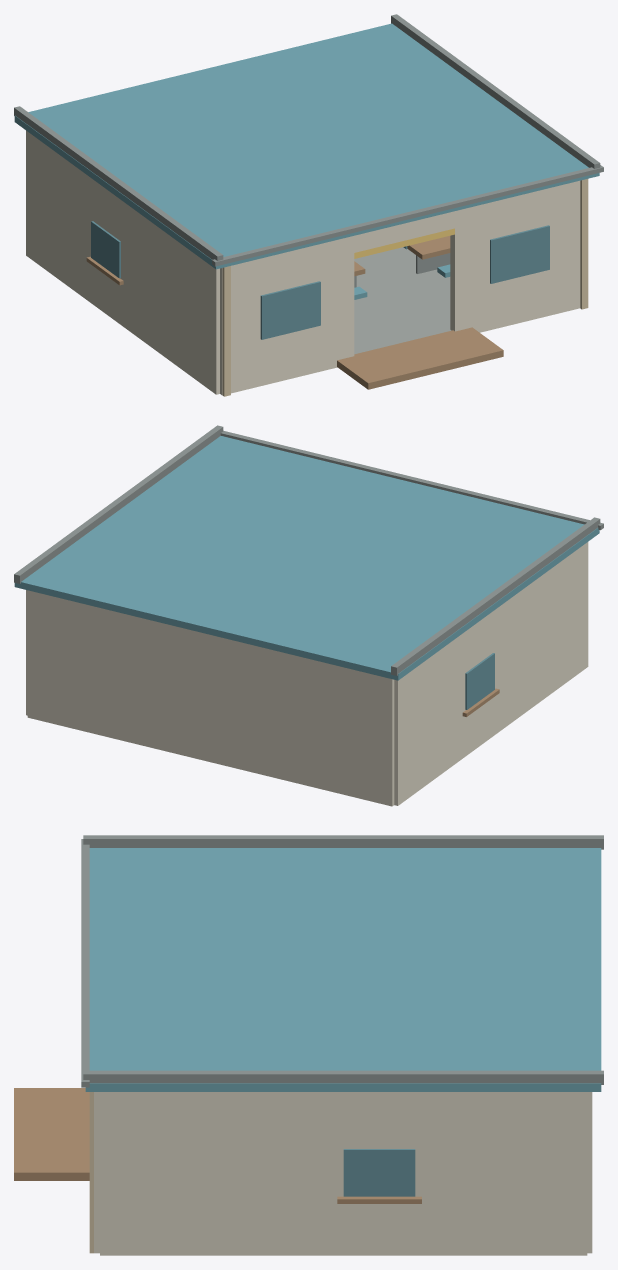
Rendered from renovated_school.glb.
The picture shows the model from 3 angles, top to bottom: view 1: azimuth 30°, elevation 25°; view 2: azimuth 150°, elevation 25°; view 3: azimuth 270°, elevation 25°; orthographic projection. The views are drawn at different scales.
Parts seen in each view (by area): view 1: roof deck.003, WALL_side masonry.006, WALL_entrance pier.007, WALL_entrance pier.006, FLOOR_repaired slab.003, porch landing.003, front rain gutter.003, roof edge.006, roof edge.007, school front window, school front window.001, WALL_door lintel.003 (+5 smaller); view 2: roof deck.003, WALL_rear masonry.003, WALL_side masonry.006, roof edge.007, roof edge.006, front rain gutter.003, side reused window.006; view 3: roof deck.003, WALL_side masonry.007, roof edge.007, porch landing.003, roof edge.006, side reused window.007, front rain gutter.003, WALL_entrance pier.007, WALL_rear masonry.003, corner plaster trim.007, side window sill.007.
Part boxes in pixels (box(x1,y1,x2,y2)): roof deck.003: box(14, 23, 599, 269); WALL_side masonry.006: box(26, 130, 219, 394); WALL_entrance pier.007: box(450, 180, 580, 332); WALL_entrance pier.006: box(220, 236, 354, 395); FLOOR_repaired slab.003: box(354, 247, 451, 354); porch landing.003: box(337, 327, 503, 389); front rain gutter.003: box(212, 165, 603, 266); roof edge.006: box(14, 106, 223, 260); roof edge.007: box(391, 14, 600, 168); school front window: box(260, 281, 320, 339); school front window.001: box(490, 225, 549, 283); WALL_door lintel.003: box(354, 211, 454, 252); roof deck.003: box(14, 436, 599, 680); WALL_rear masonry.003: box(27, 590, 394, 806); WALL_side masonry.006: box(394, 542, 588, 805); roof edge.007: box(14, 425, 223, 583); roof edge.006: box(391, 517, 600, 675); front rain gutter.003: box(220, 430, 603, 530); side reused window.006: box(465, 653, 494, 709); roof deck.003: box(85, 848, 601, 1091); WALL_side masonry.007: box(100, 1092, 587, 1255); roof edge.007: box(83, 1070, 603, 1084); porch landing.003: box(14, 1088, 89, 1180); roof edge.006: box(83, 835, 603, 849); side reused window.007: box(343, 1149, 415, 1196); front rain gutter.003: box(81, 839, 89, 1087); WALL_entrance pier.007: box(94, 1092, 99, 1253); WALL_rear masonry.003: box(587, 1092, 592, 1253); corner plaster trim.007: box(89, 1092, 93, 1253); side window sill.007: box(337, 1196, 421, 1203).
Size of the model in its own units: 11.2 by 3.97 by 11.5.
